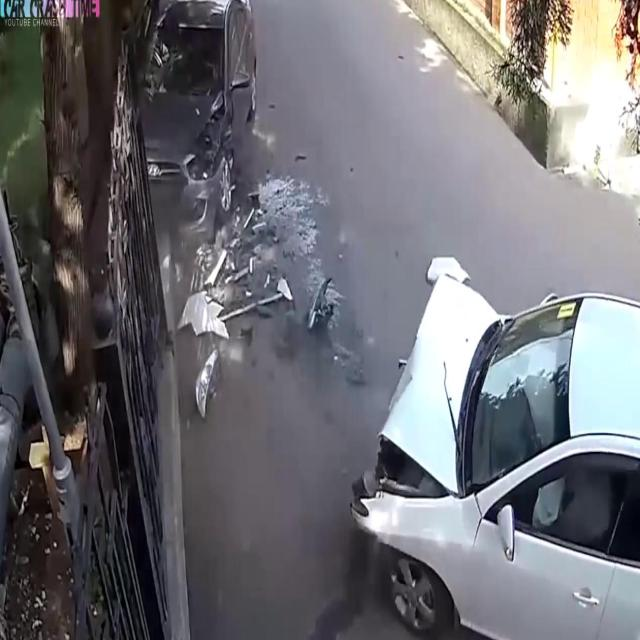accident: (131, 0, 342, 354)
